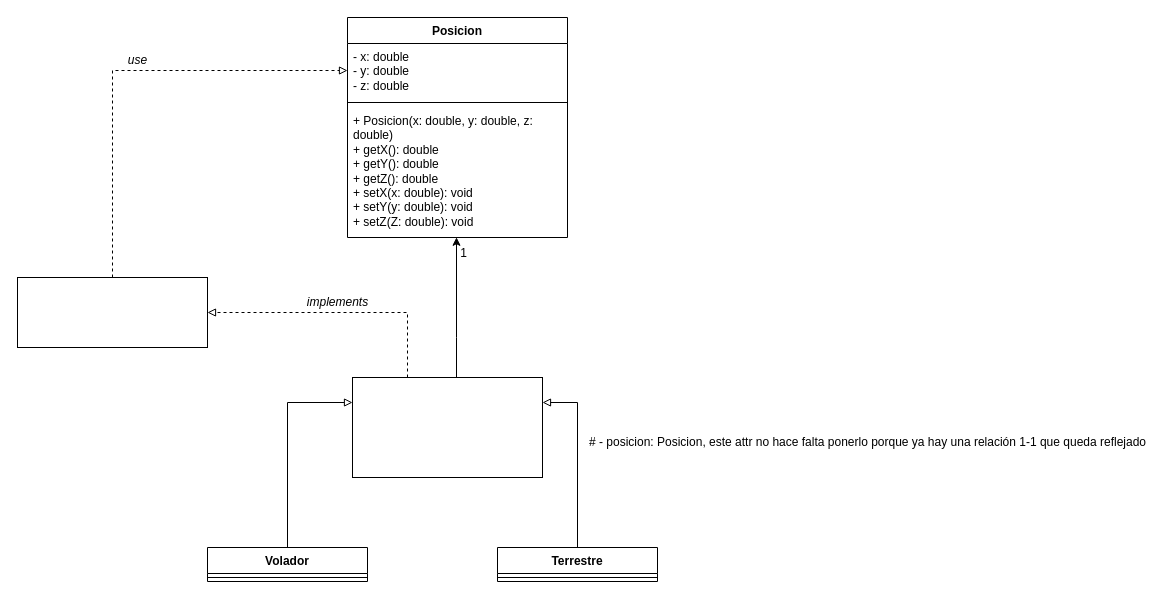
The diagram is 1175 pixels wide and 599 high, and some of its shapes have lost their labels. The shapes that lost their labels are listed below. From the top down, each one's box as (x1, y1, x2, y2) in pixels, then its label:
(16, 276, 208, 348): <<Interface>> Movible + mover(p: Posicion): void
(352, 376, 542, 478): <<abstract>> Animal - nombre: String
